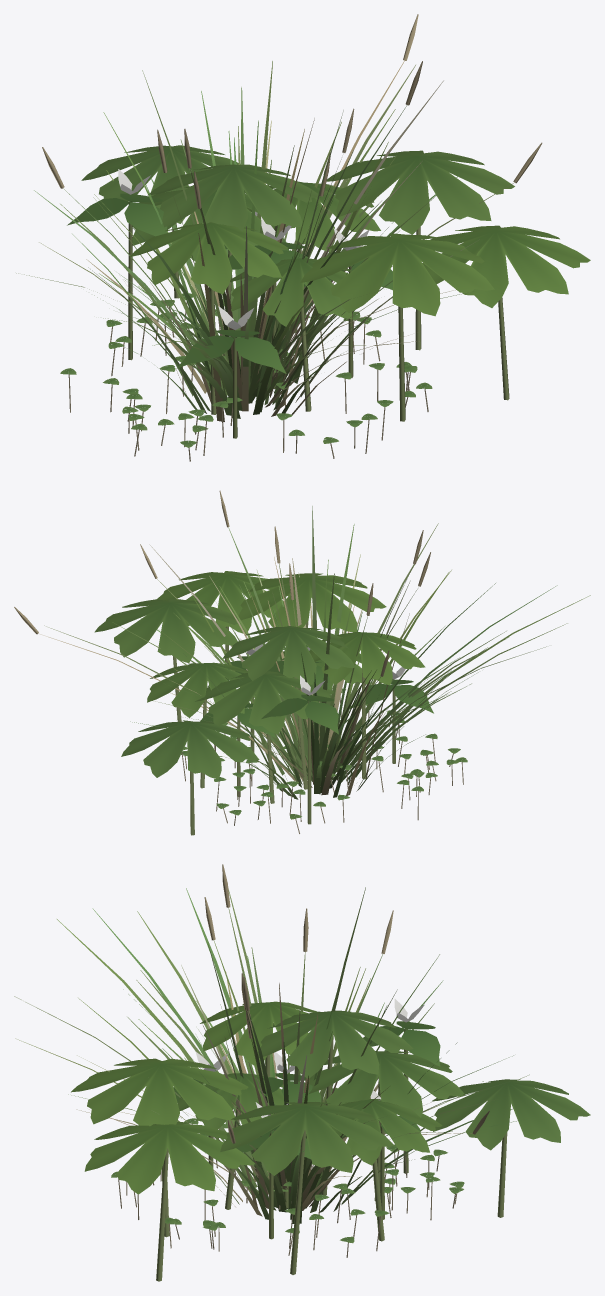
Rendered from env_grass_plants.glb.
3 views of the same model, one above another, from view 1: azimuth 30°, elevation 25°; view 2: azimuth 150°, elevation 25°; view 3: azimuth 270°, elevation 25° (orthographic). The views are drawn at different scales.
Parts seen in each view (by area): view 1: PLANT_Mayapple_Colony, GRASS_Sedge_Arching, GRASS_Woodland_Clump, PLANT_Trillium_Group, PLANT_WoodSorrel_Patch; view 2: PLANT_Mayapple_Colony, GRASS_Sedge_Arching, GRASS_Woodland_Clump, PLANT_Trillium_Group, PLANT_WoodSorrel_Patch; view 3: PLANT_Mayapple_Colony, GRASS_Sedge_Arching, GRASS_Woodland_Clump, PLANT_Trillium_Group, PLANT_WoodSorrel_Patch.
Boxes of the visible parts, x1,y1,x2,y2 form: PLANT_Mayapple_Colony: [81, 145, 590, 421]; GRASS_Sedge_Arching: [16, 14, 542, 407]; GRASS_Woodland_Clump: [60, 87, 479, 421]; PLANT_Trillium_Group: [67, 169, 392, 438]; PLANT_WoodSorrel_Patch: [60, 293, 432, 461]; PLANT_Mayapple_Colony: [94, 571, 425, 835]; GRASS_Sedge_Arching: [14, 490, 590, 788]; GRASS_Woodland_Clump: [130, 554, 487, 799]; PLANT_Trillium_Group: [200, 638, 433, 824]; PLANT_WoodSorrel_Patch: [181, 688, 467, 833]; PLANT_Mayapple_Colony: [71, 1001, 590, 1281]; GRASS_Sedge_Arching: [14, 864, 513, 1210]; GRASS_Woodland_Clump: [77, 947, 529, 1223]; PLANT_Trillium_Group: [173, 999, 440, 1239]; PLANT_WoodSorrel_Patch: [111, 1087, 464, 1257].
Bounding box in the file's own units: 1.17 × 0.651 × 1.16.
